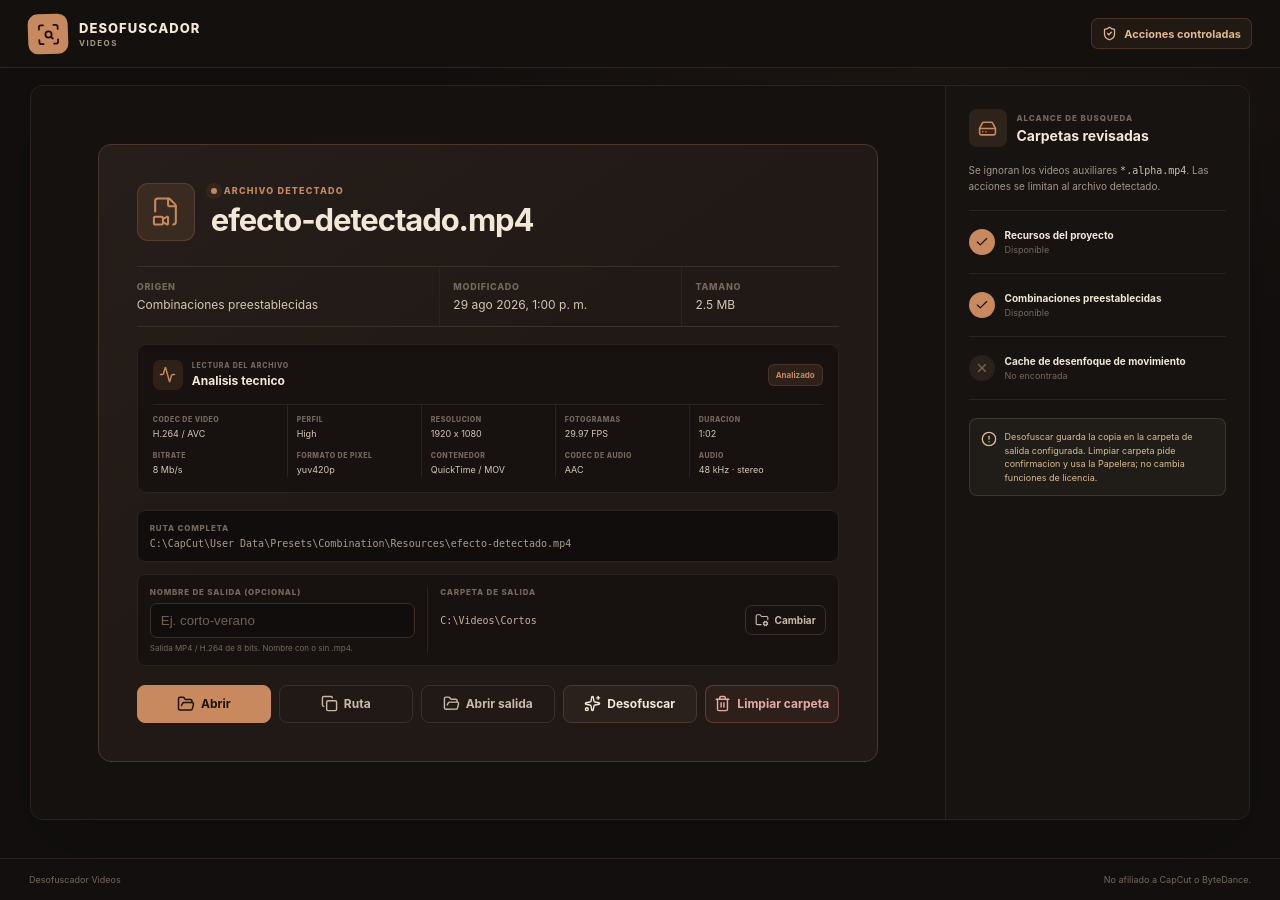
Scenario: interfaz principal › cambia y abre la carpeta de salida
(page scrolled)
expect the heading "efecto-detectado.mp4" is shown: met, box [211,203,534,238]
Click the button "Cambiar".
click(785, 620)  # box [744,605,826,635]
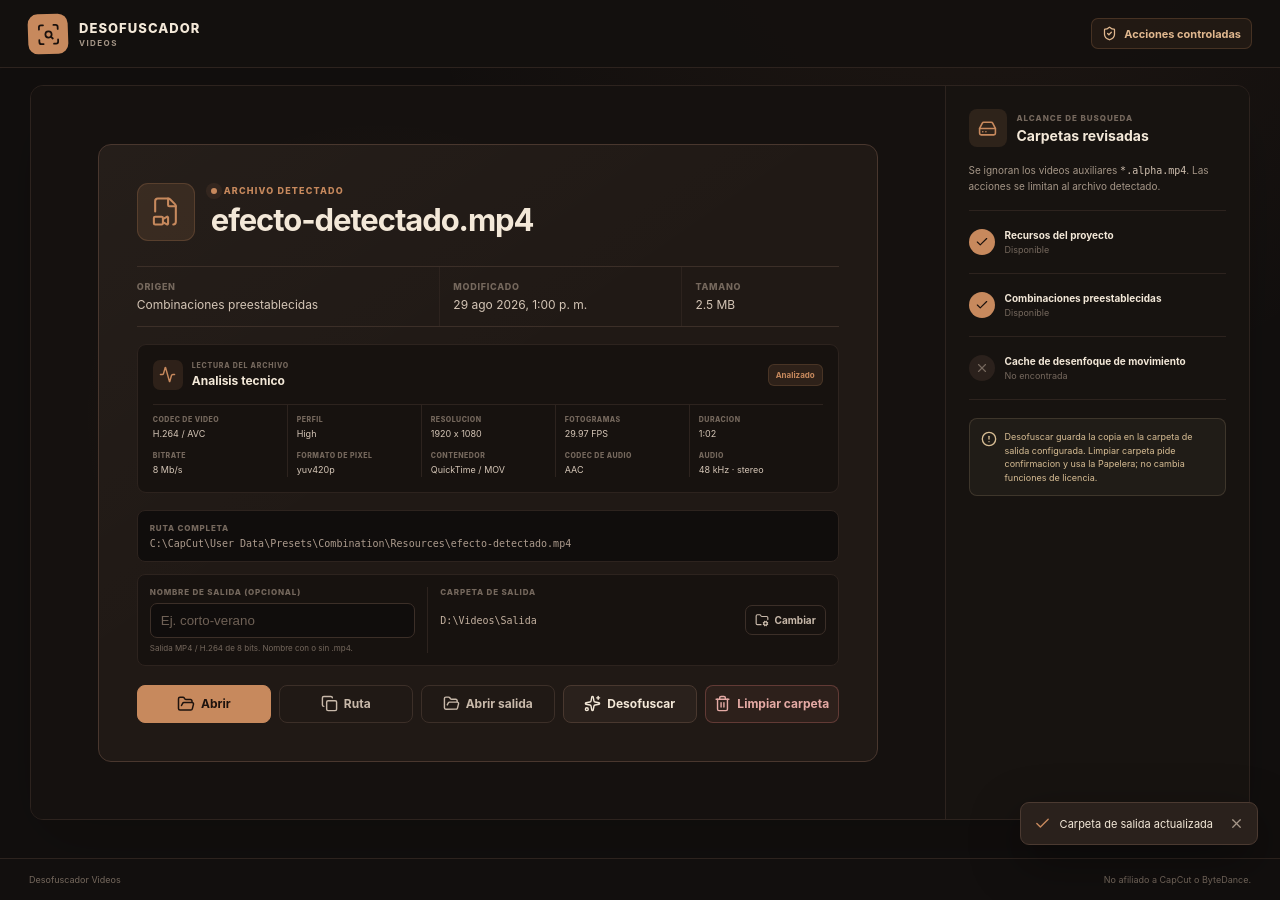
expect the text "D:\\Videos\\Salida" is shown: met, box [440,615,537,626]
expect the message reads "Carpeta de salida actualizada": met, box [1060,816,1213,830]
Click the button "Abrir salida".
click(488, 704)  # box [421,685,555,723]
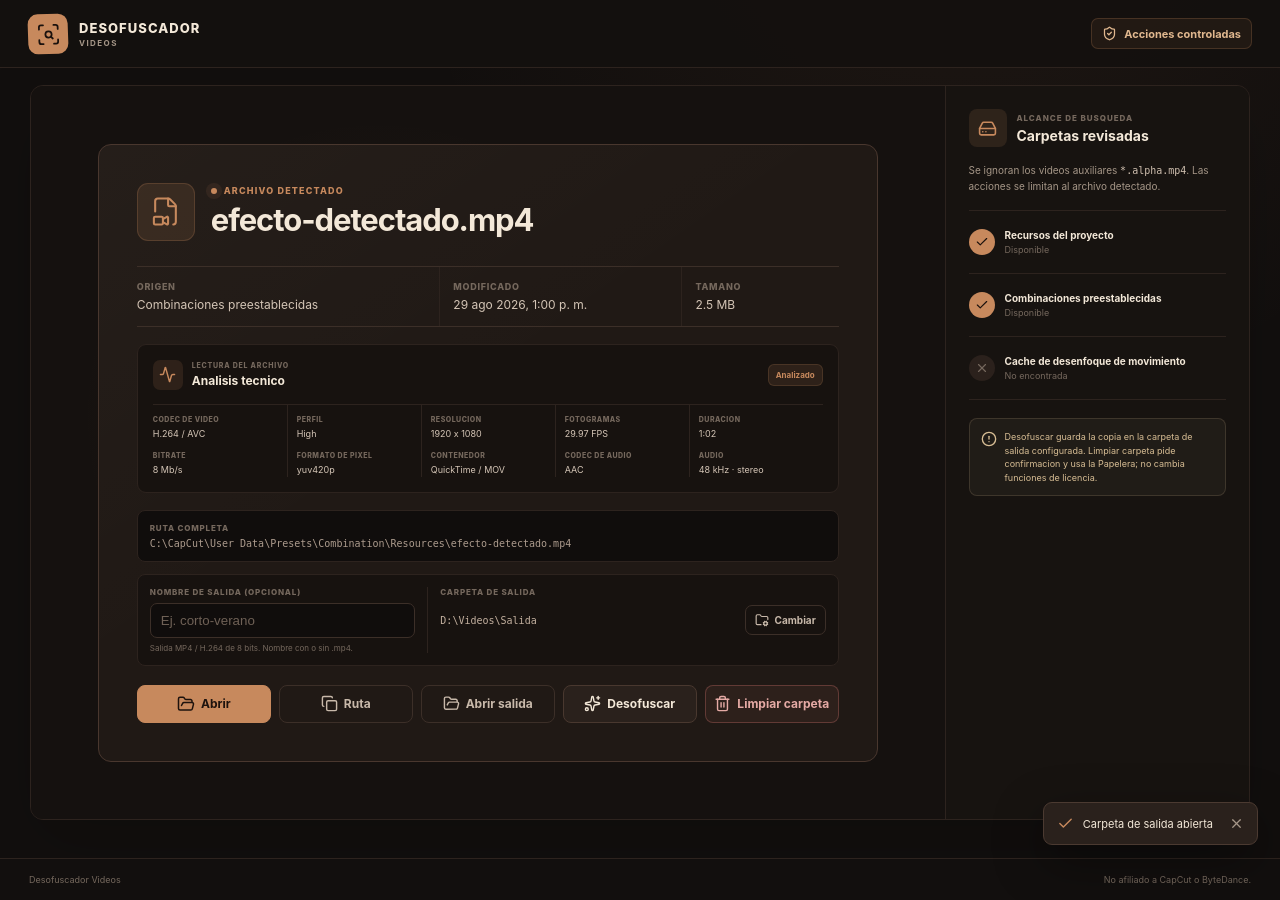
expect the message reads "Carpeta de salida abierta": met, box [1083,816,1213,830]
